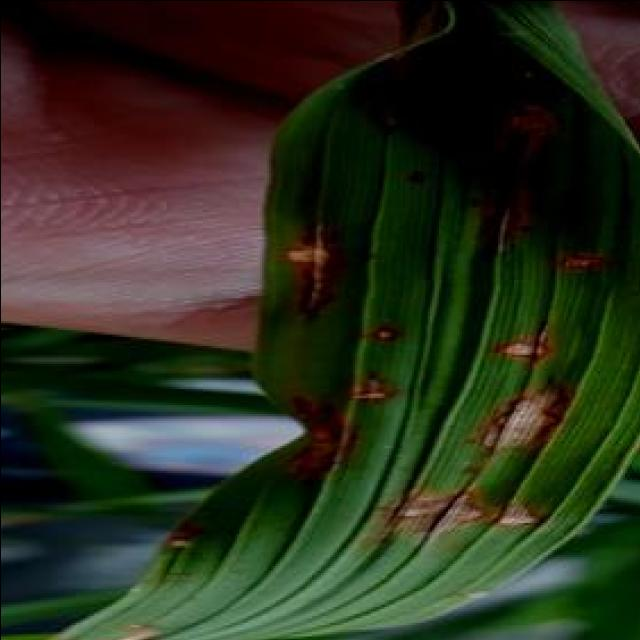Leaf_Blast: (470, 352, 586, 466), (352, 9, 449, 139), (252, 386, 358, 500), (361, 472, 495, 552), (268, 212, 354, 334), (449, 175, 529, 268), (482, 474, 552, 572), (483, 88, 568, 168), (474, 324, 562, 386), (545, 238, 622, 300), (159, 513, 218, 583), (361, 306, 429, 358), (72, 610, 166, 640), (350, 377, 400, 413)
